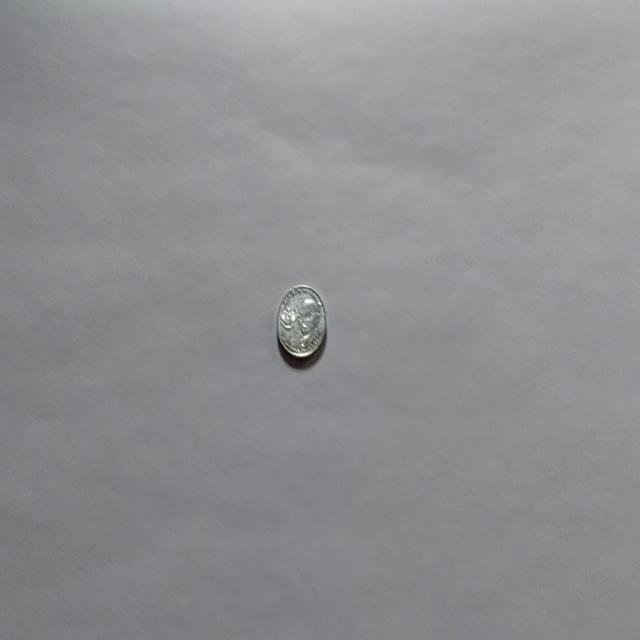lima ratus rupiah: (275, 282, 327, 361)
